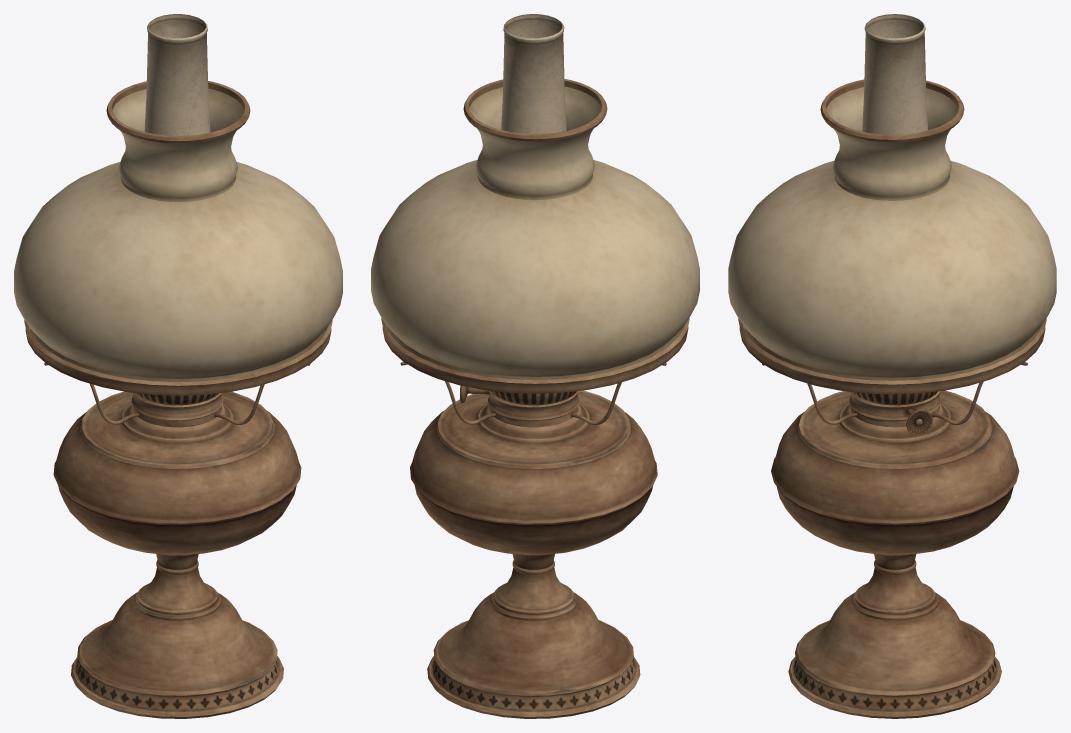
The model's file is lamp-oil-table-a.glb.
3 renders of one model, left to right at view 1: azimuth 30°, elevation 25°; view 2: azimuth 150°, elevation 25°; view 3: azimuth 270°, elevation 25°, orthographic.
Parts seen in each view (by area): view 1: lamp-oil-table-a; view 2: lamp-oil-table-a; view 3: lamp-oil-table-a.
Boxes of the visible parts, x1,y1,x2,y2 form: lamp-oil-table-a: [14, 14, 342, 718]; lamp-oil-table-a: [371, 14, 699, 718]; lamp-oil-table-a: [728, 14, 1056, 718].
Bounding box in the file's own units: 0.27 × 0.5878 × 0.27.
2 materials, 2 textured.
